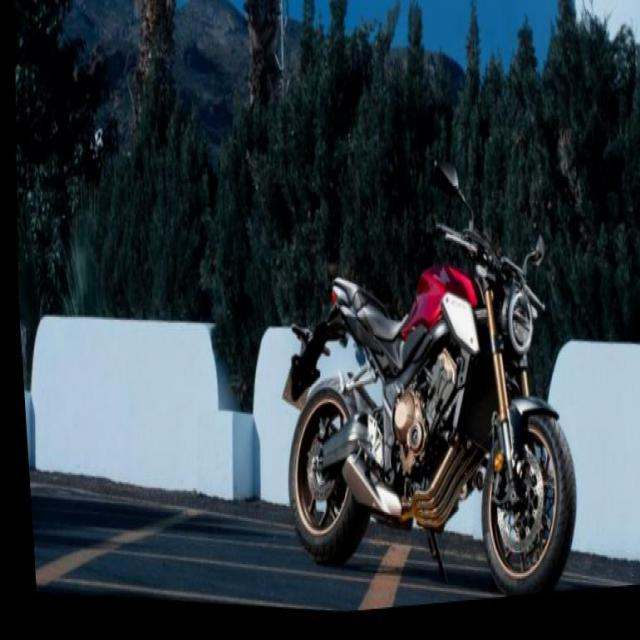CB650R: (266, 233, 586, 620)
